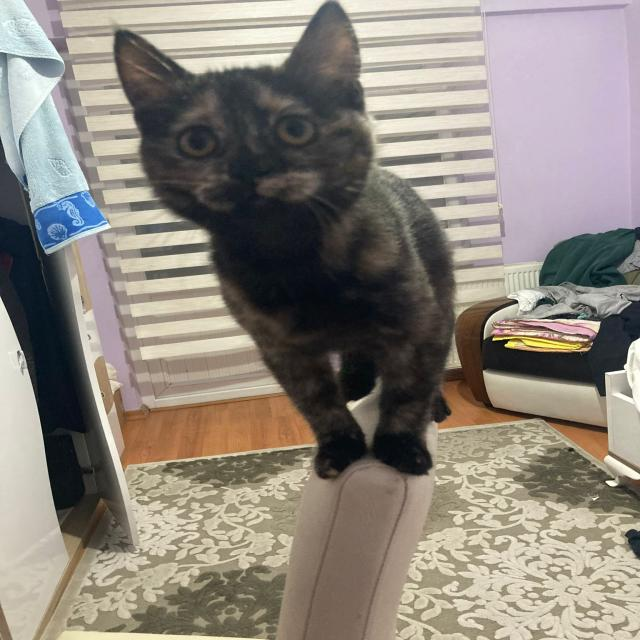authorized: (111, 1, 458, 480)
